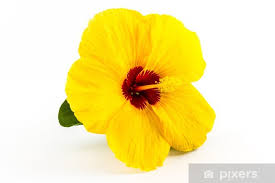hybiscus: (64, 7, 216, 172)
